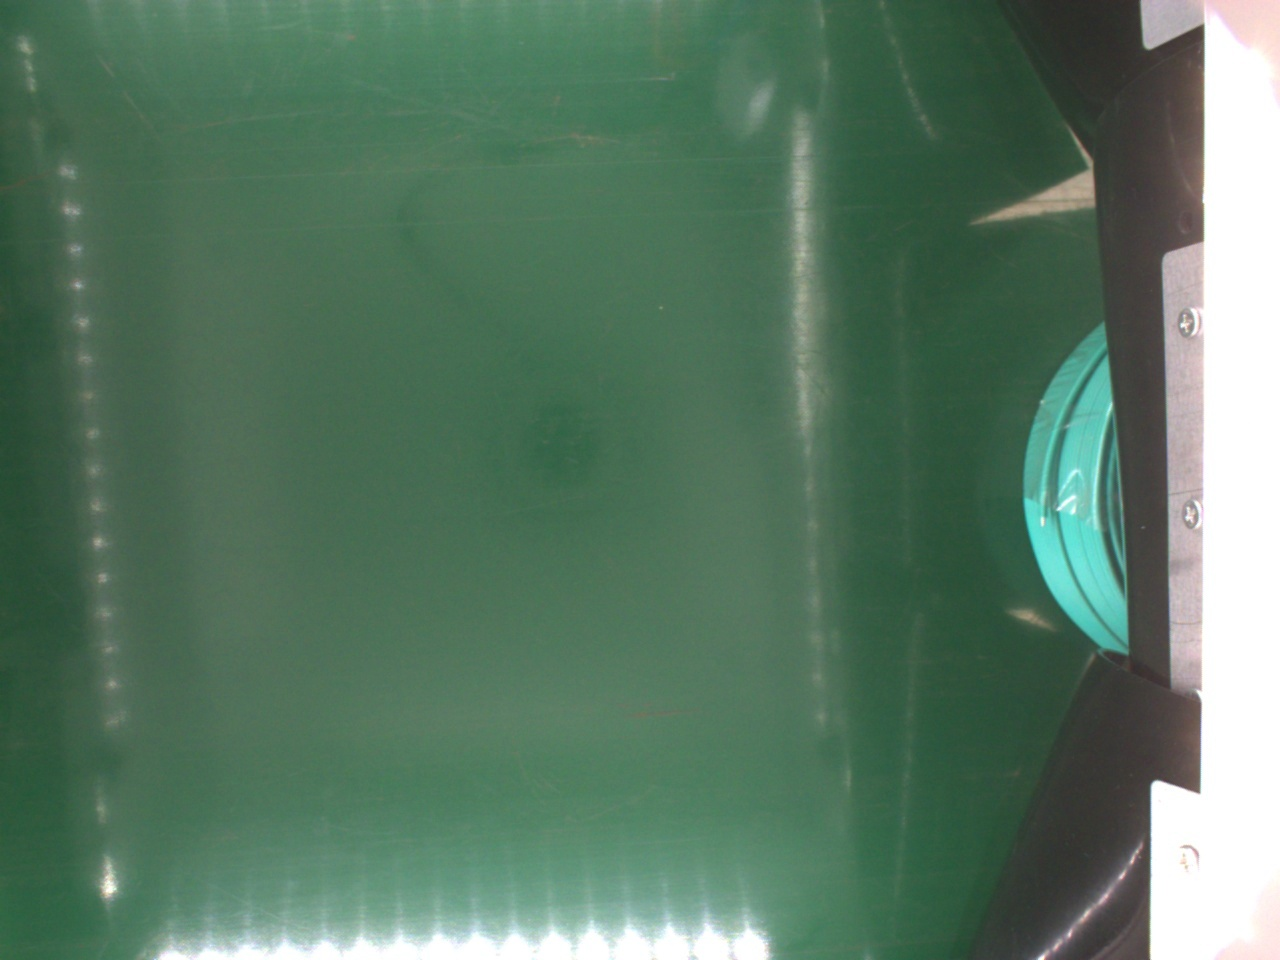green: (1023, 323, 1127, 644)
